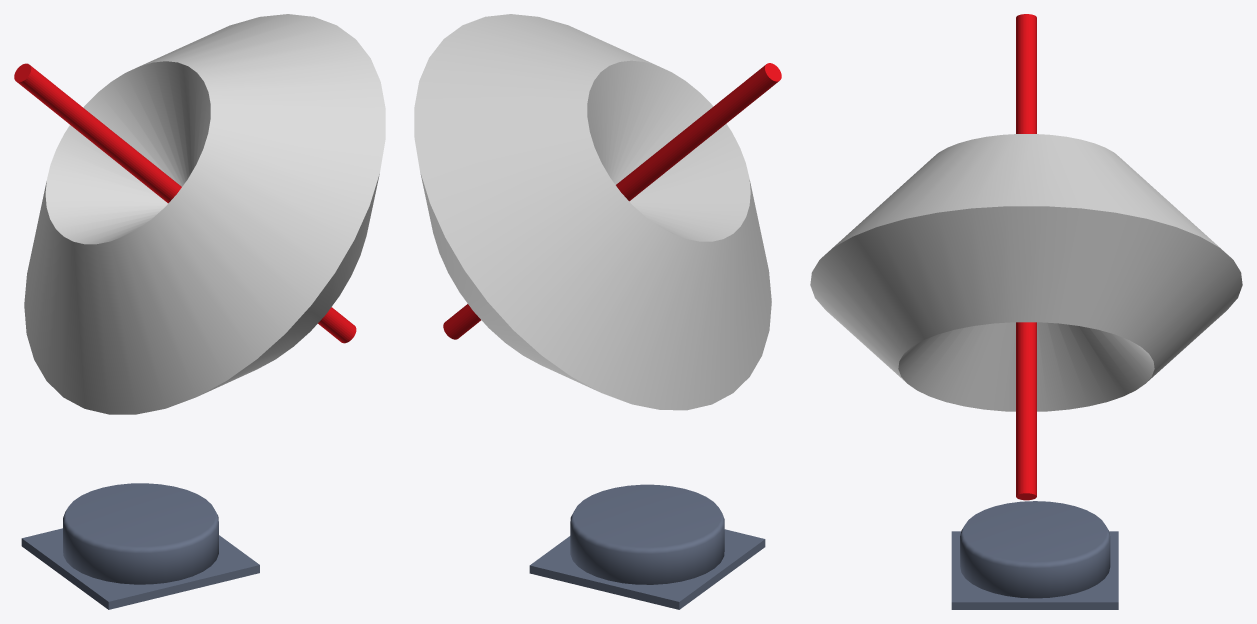
3 renders of one model, left to right at view 1: azimuth 30°, elevation 25°; view 2: azimuth 150°, elevation 25°; view 3: azimuth 270°, elevation 25°, orthographic. The views are drawn at different scales.
Parts seen in each view (by area): view 1: Cube.001, Cube, Cylinder; view 2: Cube.001, Cube, Cylinder; view 3: Cube.001, Cube, Cylinder.
Boxes of the visible parts, left/top/right/bottom form: Cube.001: left=24, top=14, right=385, bottom=414; Cube: left=21, top=483, right=259, bottom=609; Cylinder: left=14, top=63, right=356, bottom=343; Cube.001: left=414, top=14, right=771, bottom=410; Cube: left=529, top=484, right=765, bottom=609; Cylinder: left=443, top=63, right=781, bottom=339; Cube.001: left=810, top=134, right=1242, bottom=411; Cube: left=951, top=501, right=1118, bottom=609; Cylinder: left=1016, top=14, right=1036, bottom=500.
Bounding box in the file's own units: 20.44 × 30.41 × 23.54.
